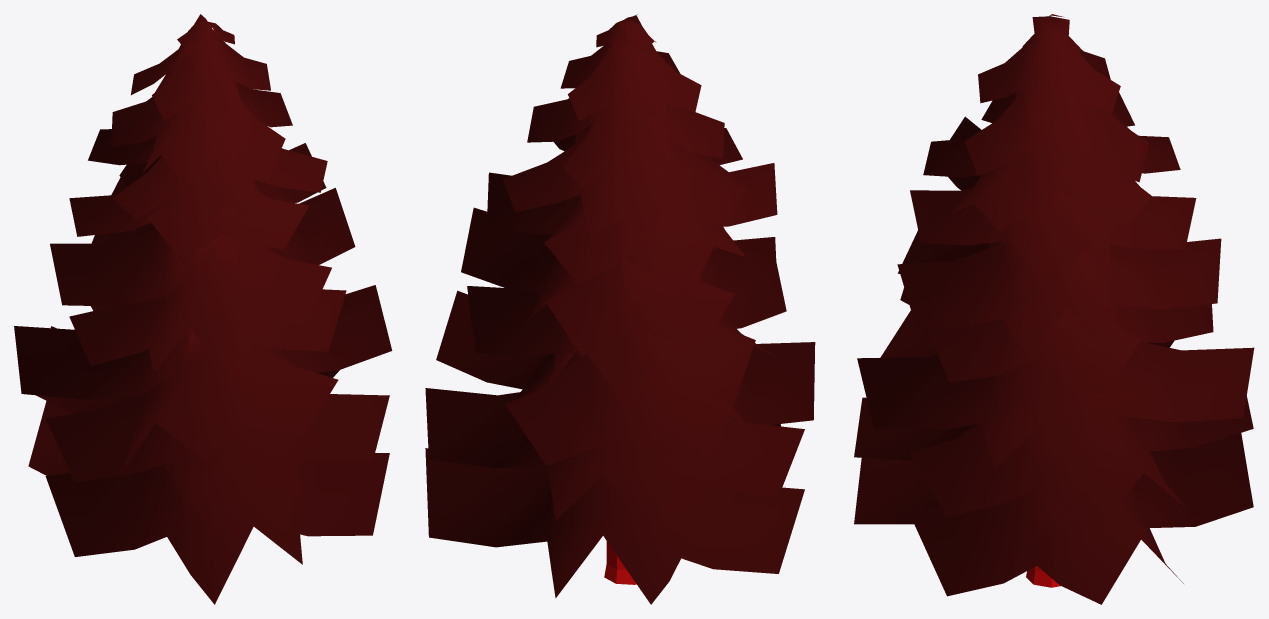
File: SM_Tree_Pine_02.glb
The picture shows the model from 3 angles, left to right: view 1: azimuth 30°, elevation 25°; view 2: azimuth 150°, elevation 25°; view 3: azimuth 270°, elevation 25°; orthographic projection. The views are drawn at different scales.
Visible parts, largest first — view 1: SM_Tree_Pine_02; view 2: SM_Tree_Pine_02; view 3: SM_Tree_Pine_02.
Boxes of the visible parts, x1,y1,x2,y2 form: SM_Tree_Pine_02: (14, 14, 392, 604); SM_Tree_Pine_02: (425, 14, 815, 604); SM_Tree_Pine_02: (854, 14, 1254, 604).
Size of the model in its own units: 2.99 by 4.59 by 3.
